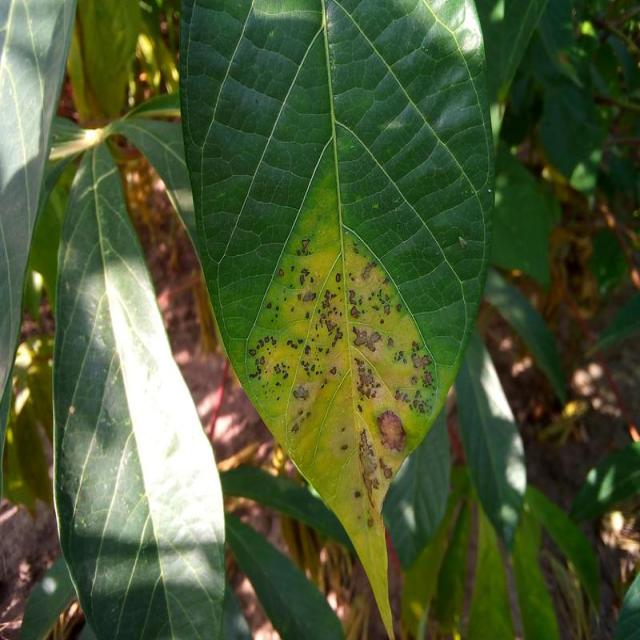cassava leaf: (178, 0, 498, 637), (51, 135, 227, 638)
